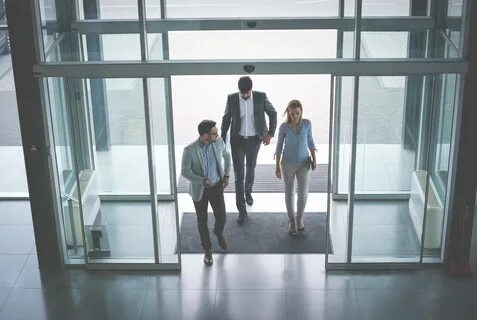awake: (220, 75, 278, 226), (179, 119, 234, 267), (273, 99, 318, 237)
